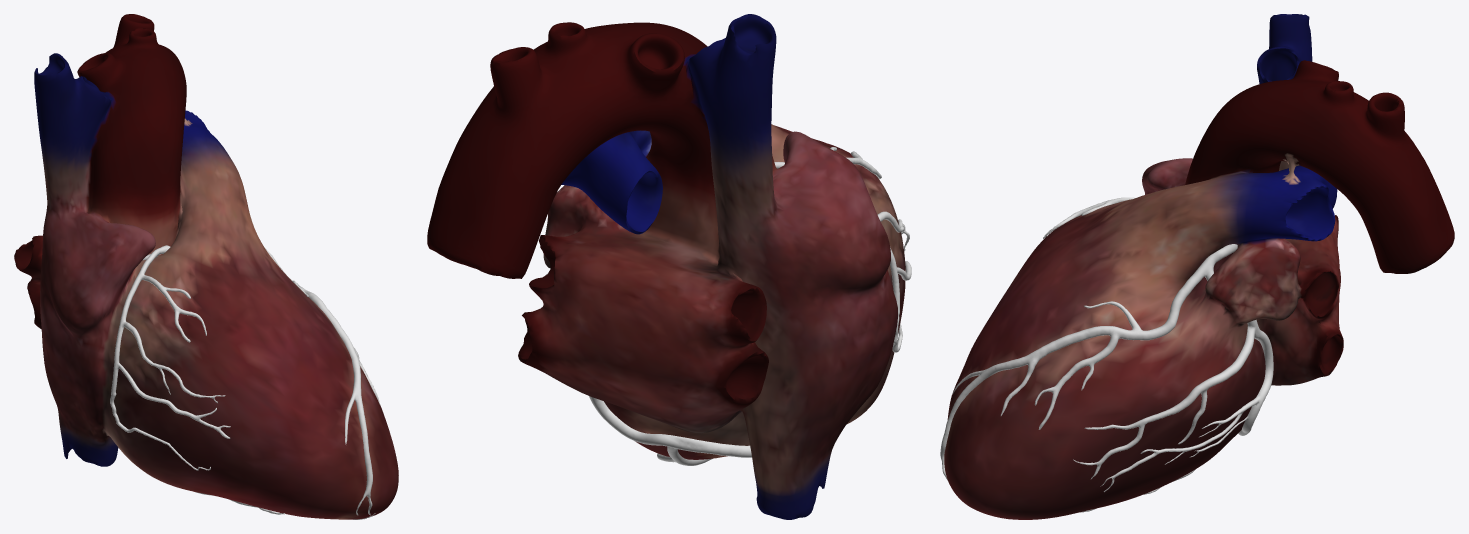
The model's file is heart_left_type.fbx.
3 renders of one model, left to right at view 1: azimuth 30°, elevation 25°; view 2: azimuth 150°, elevation 25°; view 3: azimuth 270°, elevation 25°, orthographic. The views are drawn at different scales.
Visible parts, largest first — view 1: heart_body, RCA_mid, LAD_dist, RCA_dist, LAD_mid; view 2: heart_body, LCx, RCA_mid, PLB; view 3: heart_body, LCx, OM1, LAD_prox, LAD_dist, LAD_mid, D1.
Part boxes in pixels (x1,y1,x2,y2): heart_body: (14,14,398,519); RCA_mid: (114,271,230,438); LAD_dist: (345,347,372,515); RCA_dist: (110,366,210,470); LAD_mid: (307,292,357,353); heart_body: (427,14,905,519); LCx: (589,396,751,457); RCA_mid: (830,147,911,280); PLB: (657,446,751,465); heart_body: (944,14,1454,519); LCx: (1100,267,1273,491); OM1: (1073,326,1254,478); LAD_prox: (1084,263,1208,340); LAD_dist: (940,354,1031,480); LAD_mid: (1027,326,1120,366); D1: (1034,335,1120,429).
Size of the model in its own units: 0.705 by 1.09 by 1.21.
